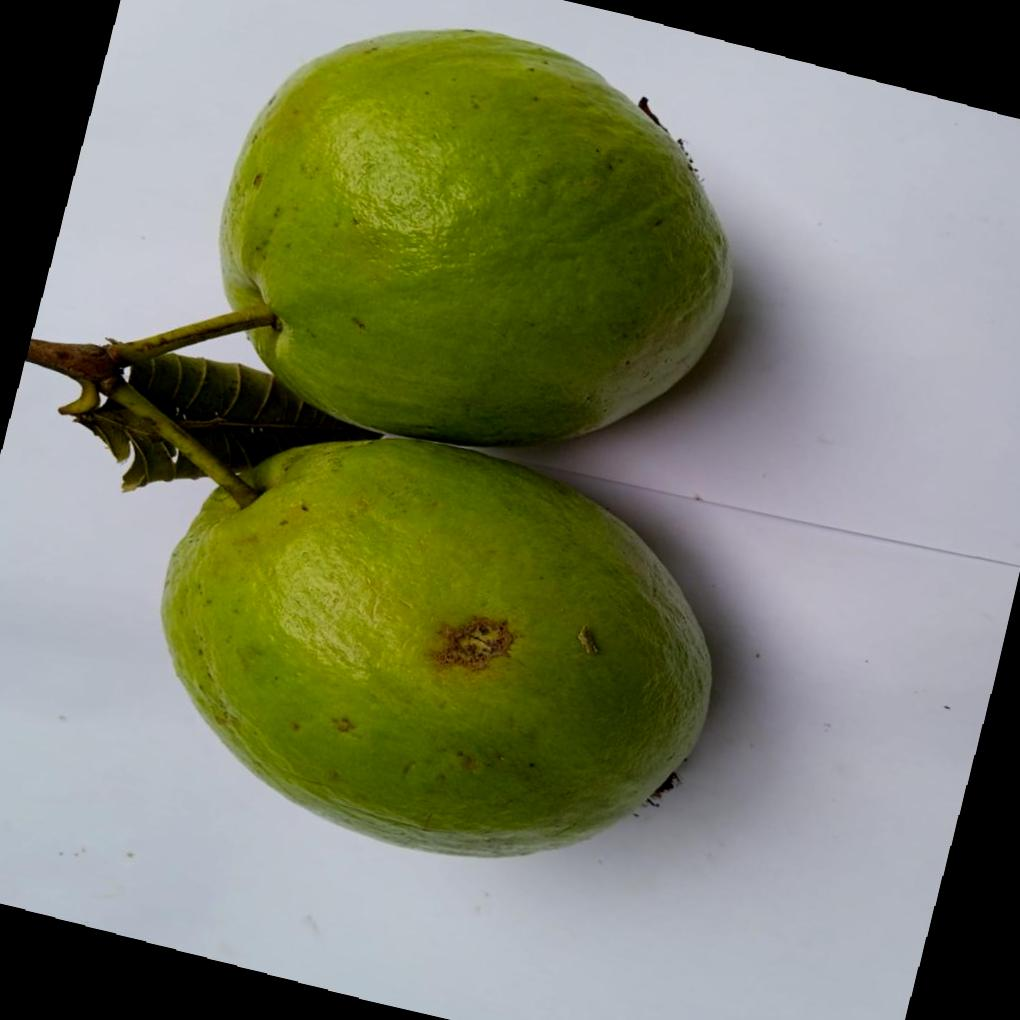FreshGuava: (160, 26, 737, 860)
